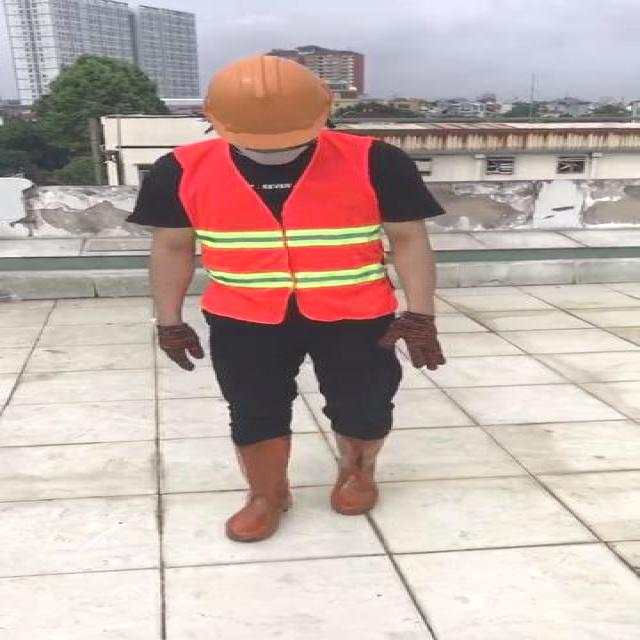boots: (220, 439, 292, 542), (327, 433, 384, 515)
hand_glove: (380, 312, 444, 371), (158, 325, 204, 372)
head_helmet: (200, 56, 333, 142)
person: (126, 56, 450, 544)
vest: (176, 132, 395, 319)
